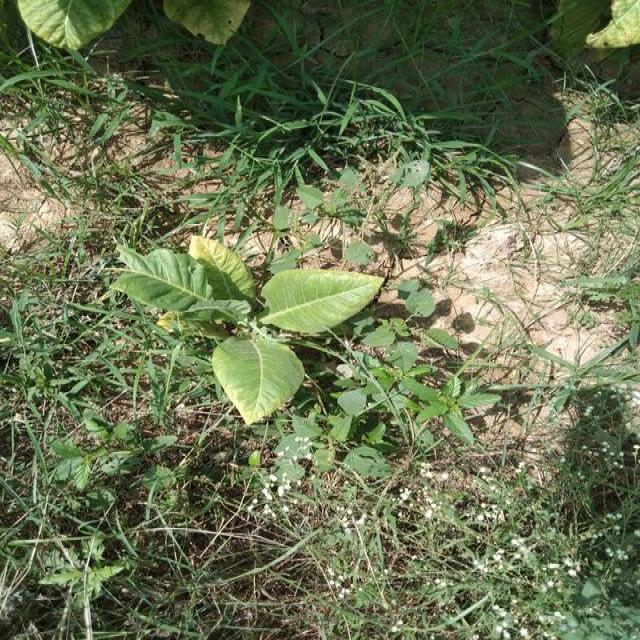crop: (136, 244, 377, 416), (5, 4, 121, 58), (549, 0, 640, 51), (148, 5, 237, 43)
